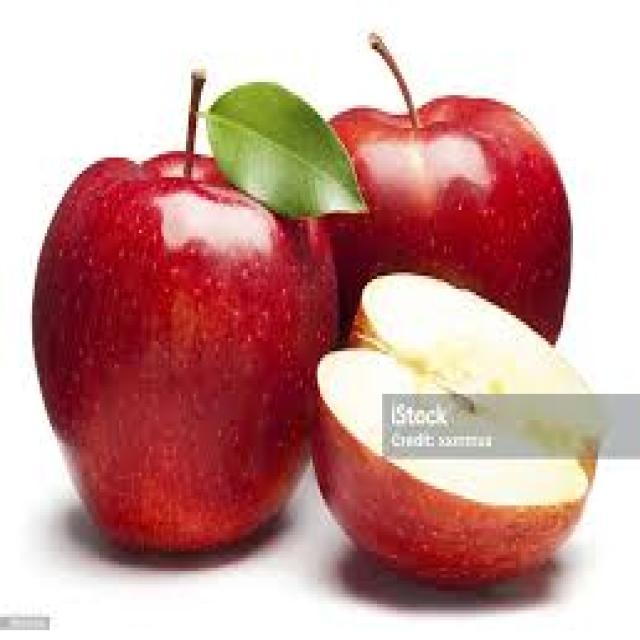non_orange: (24, 124, 361, 572), (259, 80, 604, 432)
